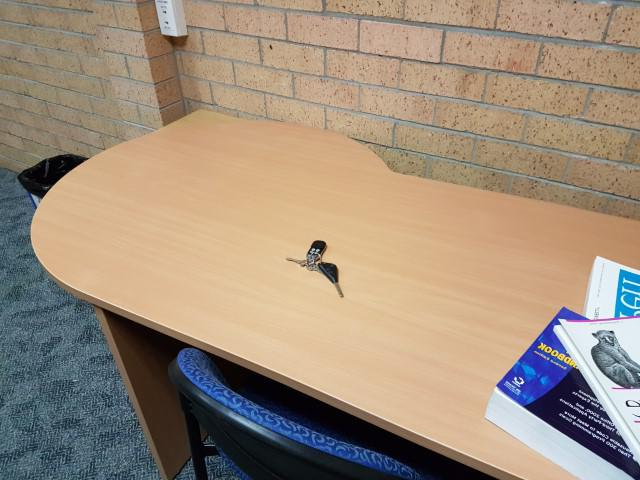key: (319, 261, 345, 298)
